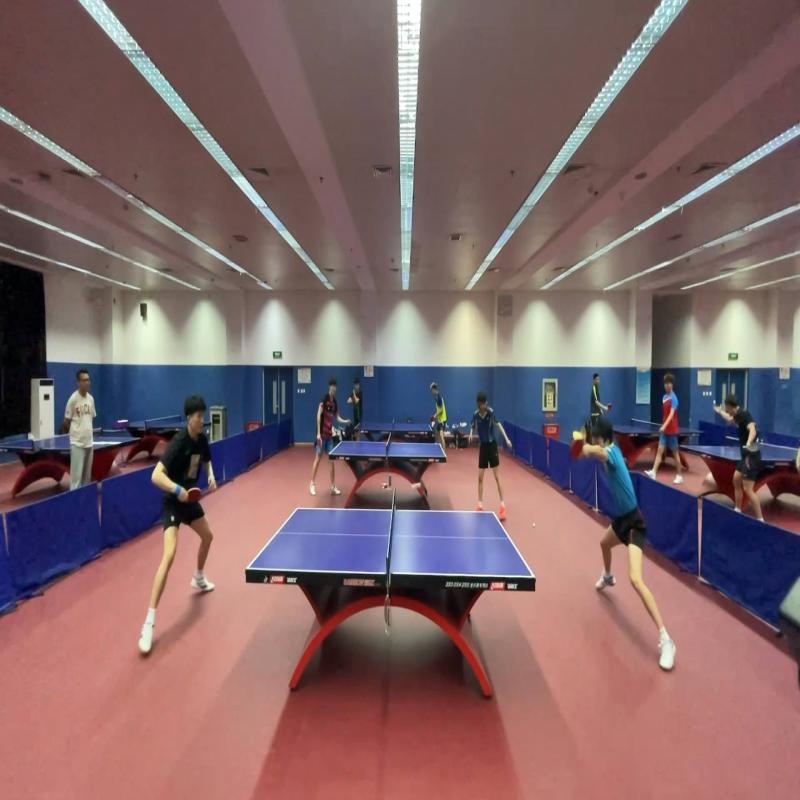bats: (181, 484, 204, 508)
